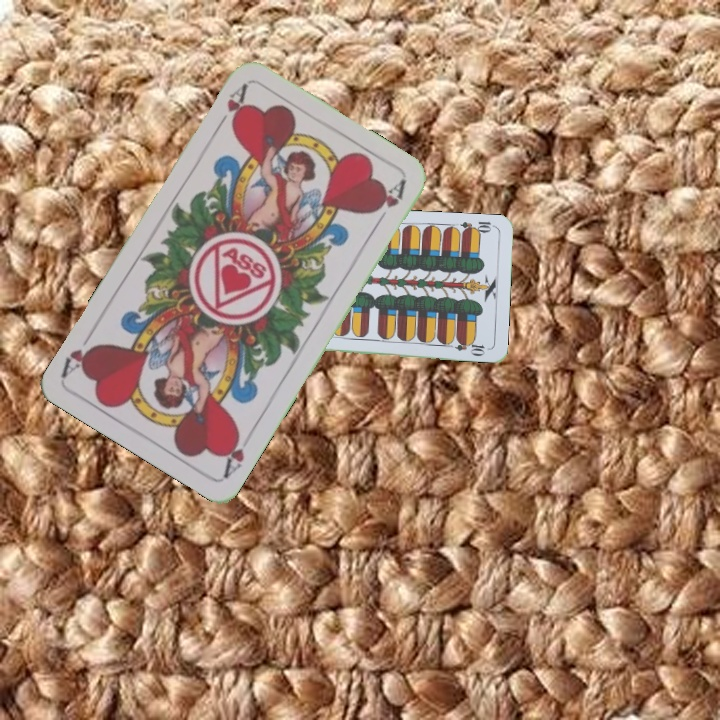E10: (457, 217, 498, 236)
HA: (211, 80, 250, 134), (219, 425, 247, 480)
